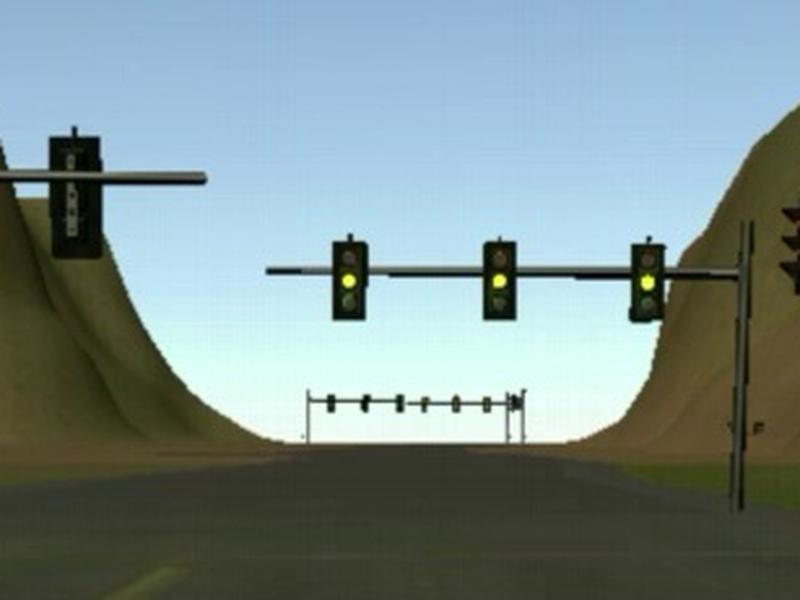Yellow: (627, 243, 667, 322), (331, 241, 369, 320), (482, 240, 517, 320)
